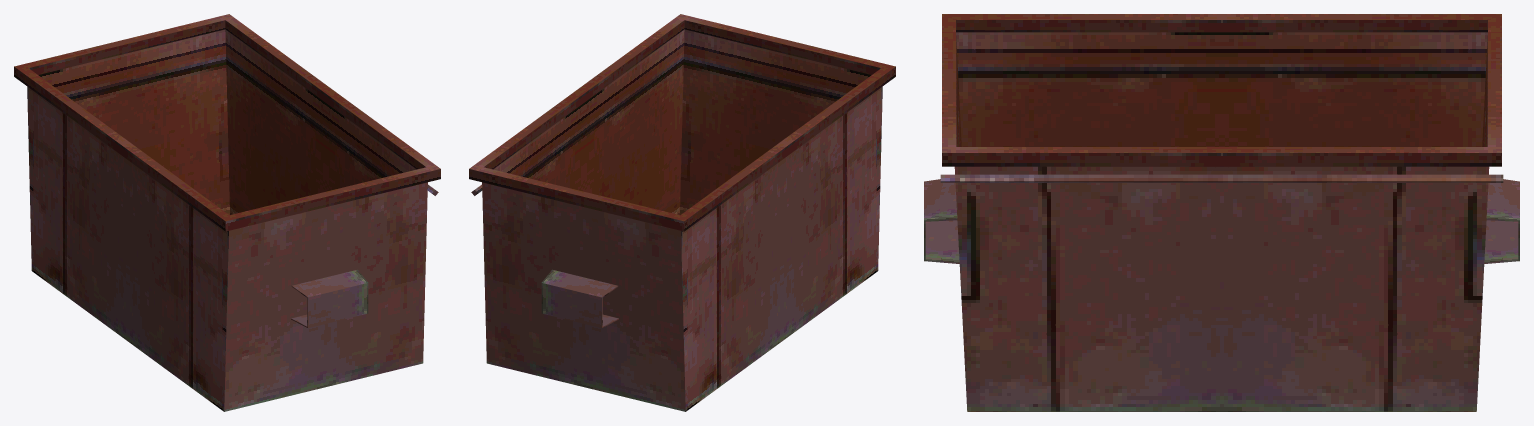
File: dumpster_empty_no_lid_red.glb
The picture shows the model from 3 angles, left to right: view 1: azimuth 30°, elevation 25°; view 2: azimuth 150°, elevation 25°; view 3: azimuth 270°, elevation 25°; orthographic projection. The views are drawn at different scales.
Parts seen in each view (by area): view 1: dumpster_empty_no_lid_red; view 2: dumpster_empty_no_lid_red; view 3: dumpster_empty_no_lid_red.
Part boxes in pixels (left/top/right/bottom): dumpster_empty_no_lid_red: left=14, top=14, right=440, bottom=411; dumpster_empty_no_lid_red: left=469, top=14, right=895, bottom=411; dumpster_empty_no_lid_red: left=924, top=14, right=1519, bottom=411.
Bounding box in the file's own units: 2.03 × 1.8 × 3.67.
Materials: 1 (1 with a texture image).
